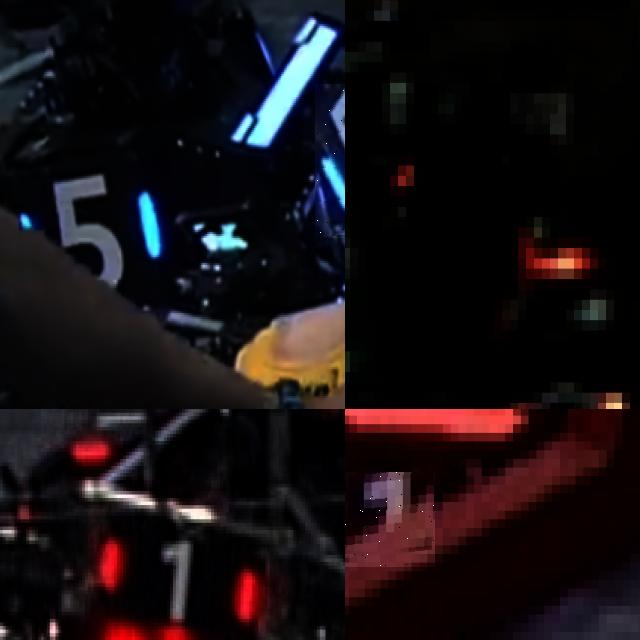B5: (315, 84, 345, 238)
R1: (91, 519, 267, 626), (345, 472, 435, 567), (67, 409, 149, 469)
Rs: (494, 372, 638, 409)
